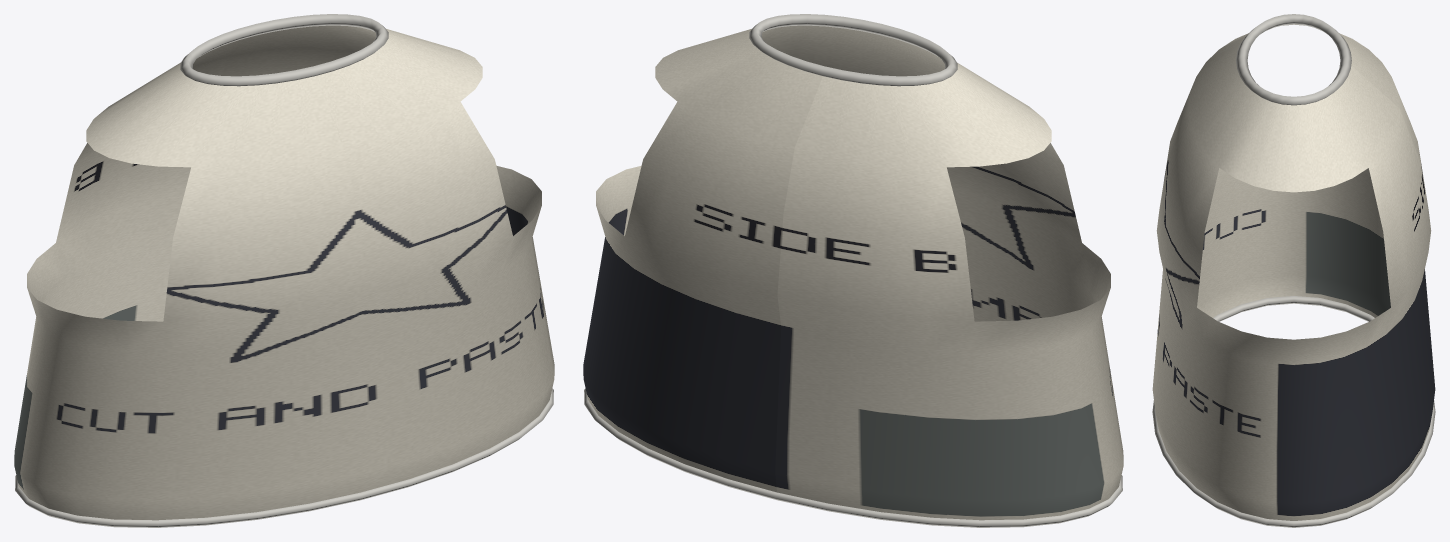
The model's file is SB_TOP_02.fbx.
3 views of the same model, side by side, from view 1: azimuth 30°, elevation 25°; view 2: azimuth 150°, elevation 25°; view 3: azimuth 270°, elevation 25° (orthographic). The views are drawn at different scales.
Visible parts, largest first — view 1: Camiseta_com_caimento.006, BlenderTopo_Gola.005, BlenderTopo_Barra.005; view 2: Camiseta_com_caimento.006, BlenderTopo_Gola.005, BlenderTopo_Barra.005; view 3: Camiseta_com_caimento.006, BlenderTopo_Barra.005, BlenderTopo_Gola.005.
Part boxes in pixels (bbox=[...]): Camiseta_com_caimento.006: bbox=[14, 25, 554, 520]; BlenderTopo_Gola.005: bbox=[180, 14, 388, 86]; BlenderTopo_Barra.005: bbox=[15, 388, 553, 527]; Camiseta_com_caimento.006: bbox=[583, 25, 1123, 520]; BlenderTopo_Gola.005: bbox=[749, 14, 957, 86]; BlenderTopo_Barra.005: bbox=[584, 388, 1122, 527]; Camiseta_com_caimento.006: bbox=[1152, 24, 1435, 520]; BlenderTopo_Barra.005: bbox=[1152, 296, 1435, 527]; BlenderTopo_Gola.005: bbox=[1236, 14, 1351, 105].
Bounding box in the file's own units: 112 × 82.6 × 58.8.
2 materials, 1 textured.
